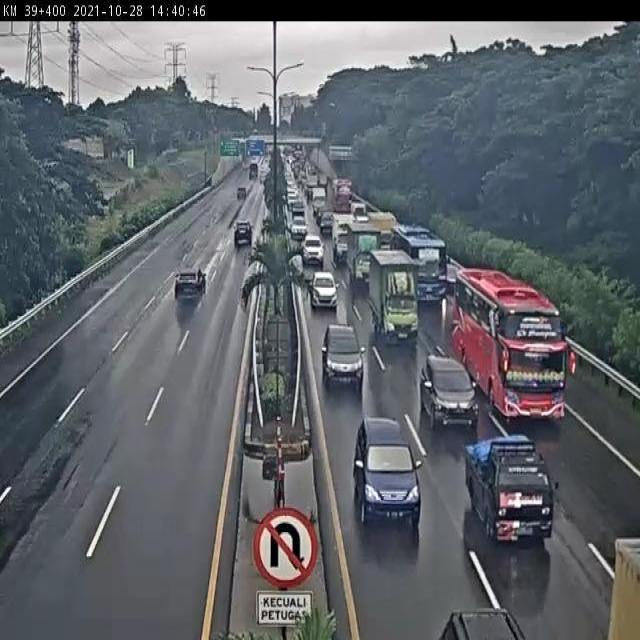ARABA: (463, 433, 555, 544), (353, 414, 423, 530), (419, 354, 478, 430), (321, 322, 364, 390), (309, 268, 337, 309)
KAMYONET: (368, 251, 420, 344), (173, 266, 207, 302)
OTOBUS: (453, 268, 567, 424), (389, 221, 446, 304)
